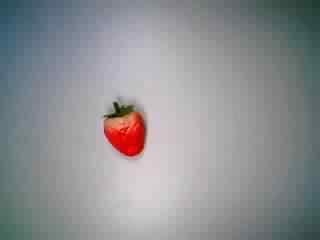strawberry: (90, 97, 156, 159)
